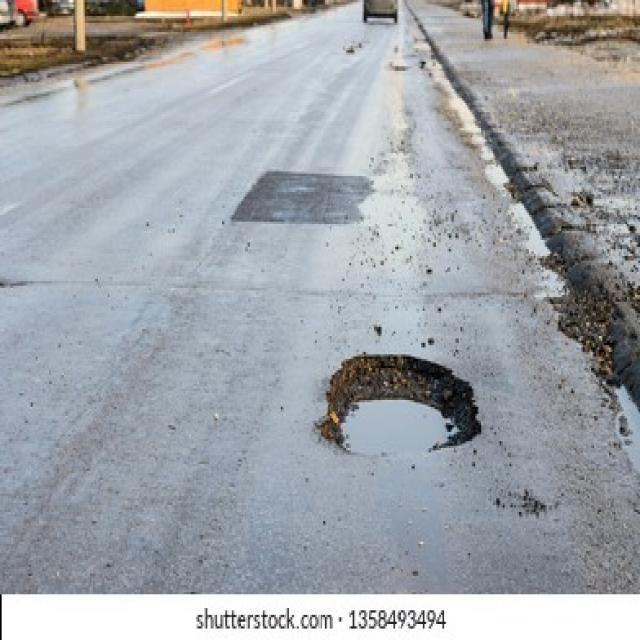Pothole: (315, 350, 483, 452)
